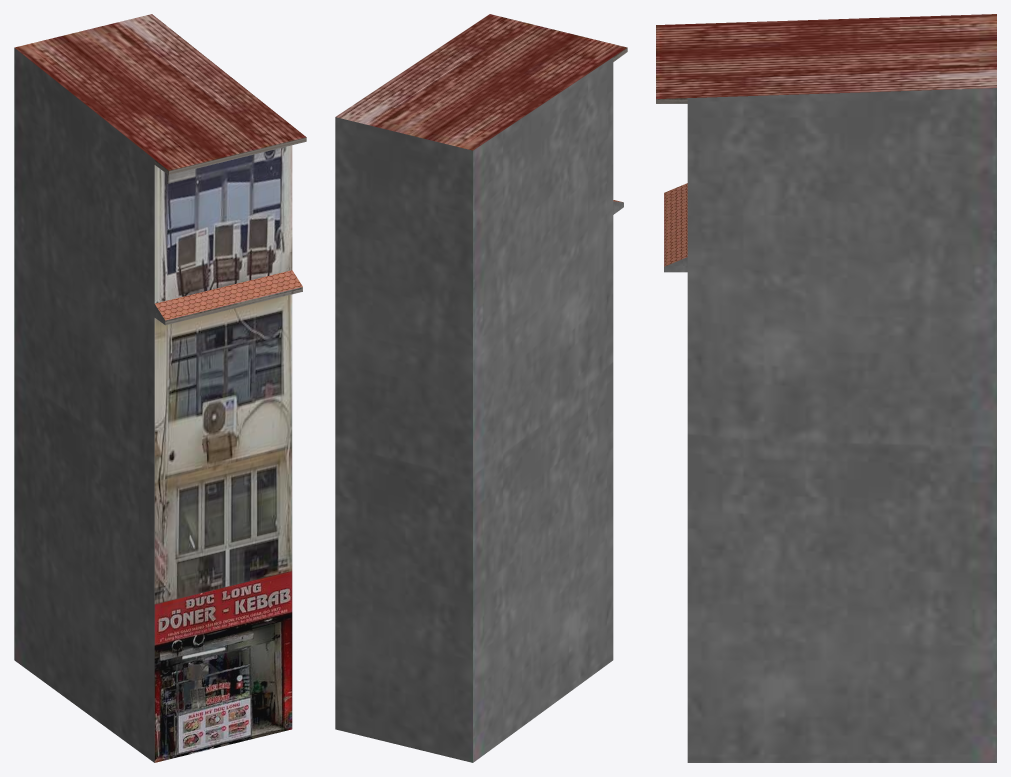
The picture shows the model from 3 angles, left to right: view 1: azimuth 30°, elevation 25°; view 2: azimuth 150°, elevation 25°; view 3: azimuth 270°, elevation 25°; orthographic projection. The views are drawn at different scales.
Parts seen in each view (by area): view 1: HN1012_DucLongDonker_Kebab; view 2: HN1012_DucLongDonker_Kebab; view 3: HN1012_DucLongDonker_Kebab.
Part boxes in pixels (<box>): HN1012_DucLongDonker_Kebab: <box>14,14,306,762</box>; HN1012_DucLongDonker_Kebab: <box>335,14,627,762</box>; HN1012_DucLongDonker_Kebab: <box>656,14,996,762</box>.
Size of the model in its own units: 3 by 12.75 by 5.84.
1 material, 1 textured.
